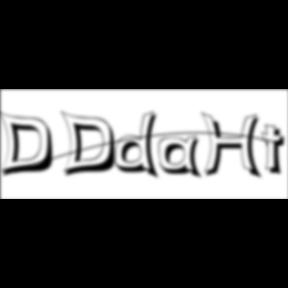D: (60, 110, 124, 180), (0, 110, 60, 180)
H: (201, 112, 267, 182)
a: (159, 135, 207, 182)
d: (115, 110, 165, 182)
